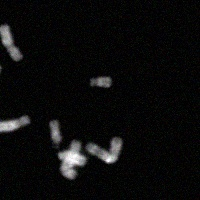chromosome: (86, 136, 124, 163), (0, 23, 23, 60), (62, 137, 81, 180), (0, 115, 32, 132), (58, 151, 88, 166), (49, 119, 61, 144), (89, 77, 110, 89), (0, 63, 1, 74)
